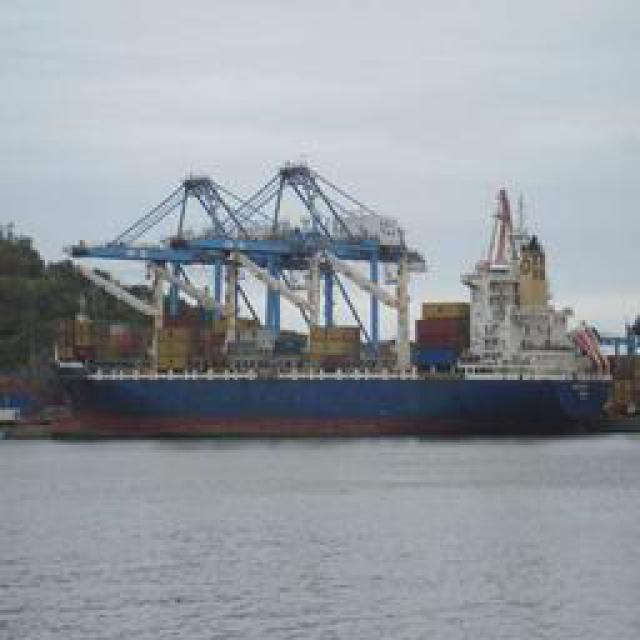Ship: (37, 169, 620, 439)
